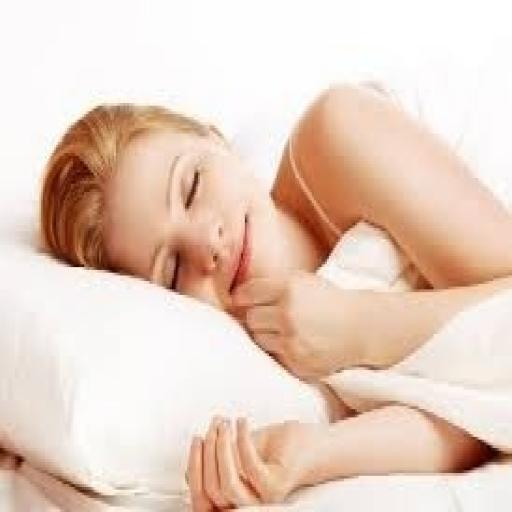sleeping: (36, 72, 510, 510)
